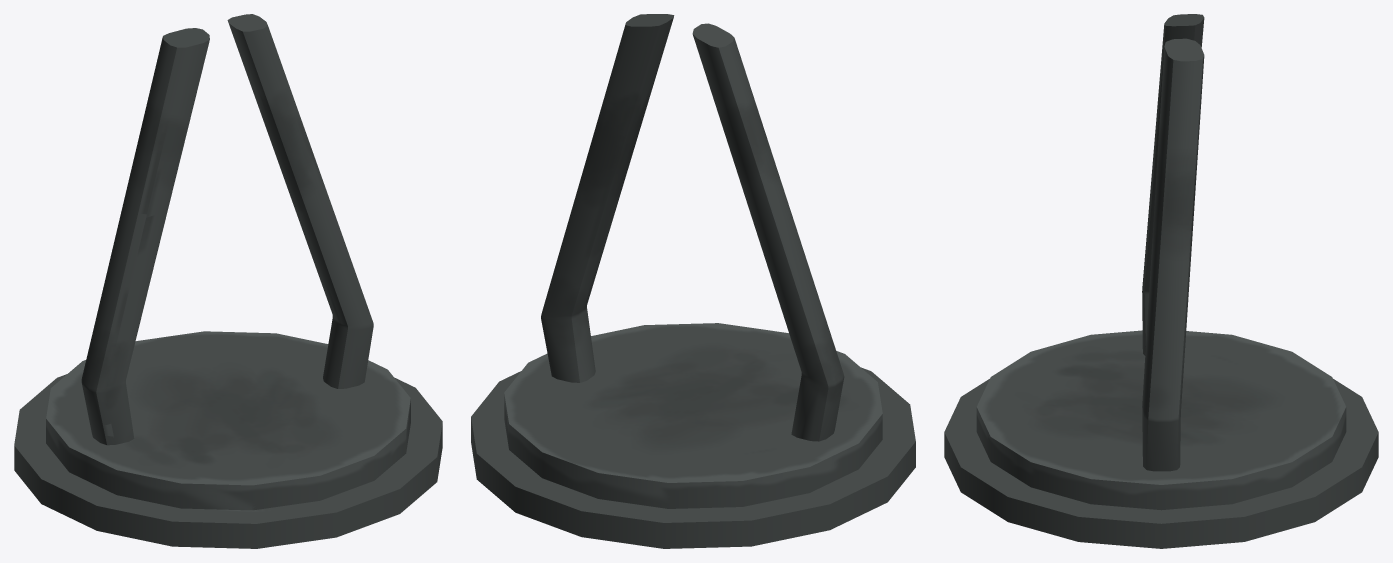
File: portal.fbx
3 views of the same model, side by side, from view 1: azimuth 30°, elevation 25°; view 2: azimuth 150°, elevation 25°; view 3: azimuth 270°, elevation 25° (orthographic). The views are drawn at different scales.
Visible parts, largest first — view 1: Cylinder; view 2: Cylinder; view 3: Cylinder.
Part boxes in pixels (x1,y1,x2,y2): Cylinder: (14,14,442,548); Cylinder: (471,14,915,548); Cylinder: (944,14,1378,548).
Size of the model in its own units: 470 by 507 by 470.
1 material, 1 textured.
